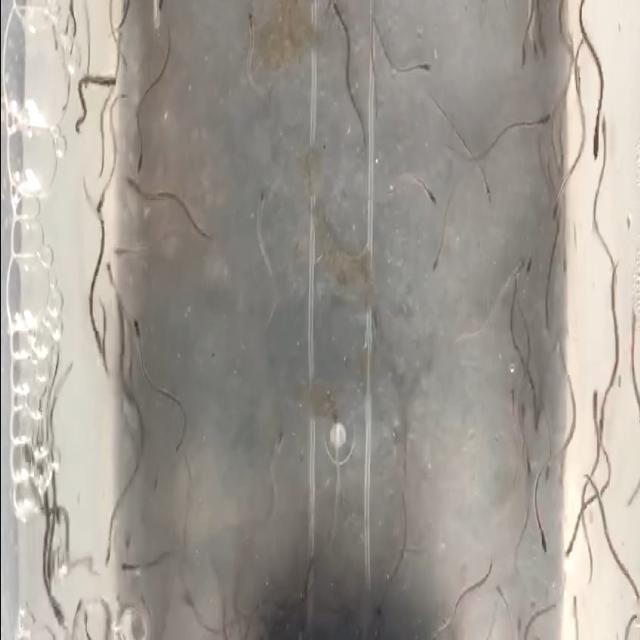active_glass_eel: (531, 511, 558, 580), (426, 228, 452, 284), (418, 41, 442, 88), (132, 129, 152, 181), (539, 456, 563, 497), (587, 378, 607, 426), (509, 452, 537, 486), (252, 172, 272, 218), (502, 378, 522, 422), (588, 124, 608, 164), (519, 36, 539, 76), (536, 91, 554, 135), (42, 584, 64, 620), (554, 246, 570, 292), (125, 308, 147, 340), (120, 165, 142, 197), (91, 317, 105, 365), (427, 168, 441, 215), (100, 536, 118, 572), (272, 425, 290, 459), (488, 164, 504, 198), (548, 192, 564, 226), (521, 242, 533, 286), (479, 177, 495, 209), (116, 552, 134, 579), (328, 0, 342, 33), (240, 14, 256, 42), (538, 28, 550, 60), (112, 240, 126, 266), (518, 503, 530, 532), (570, 581, 580, 608), (104, 82, 114, 100)
